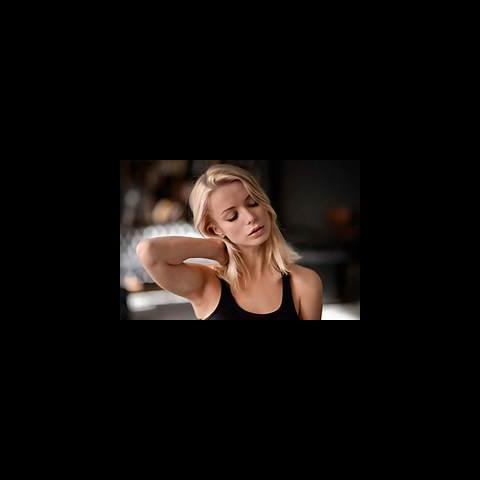closed: (213, 192, 264, 226)
